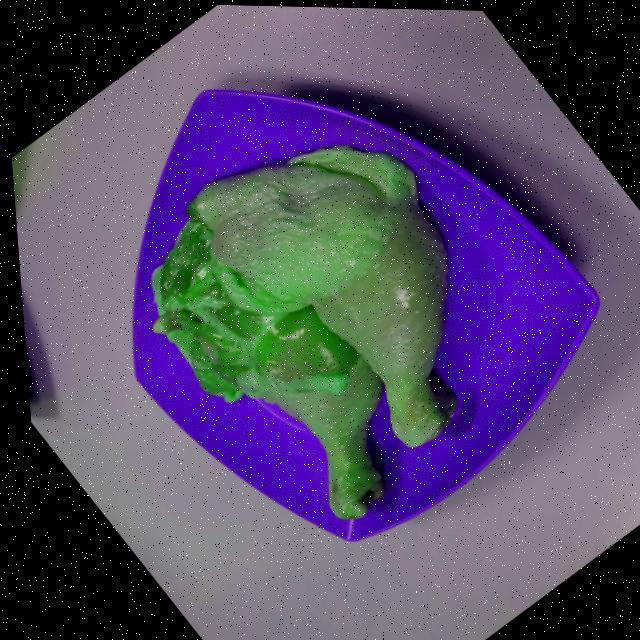quater: (211, 163, 454, 447), (157, 245, 377, 532)
